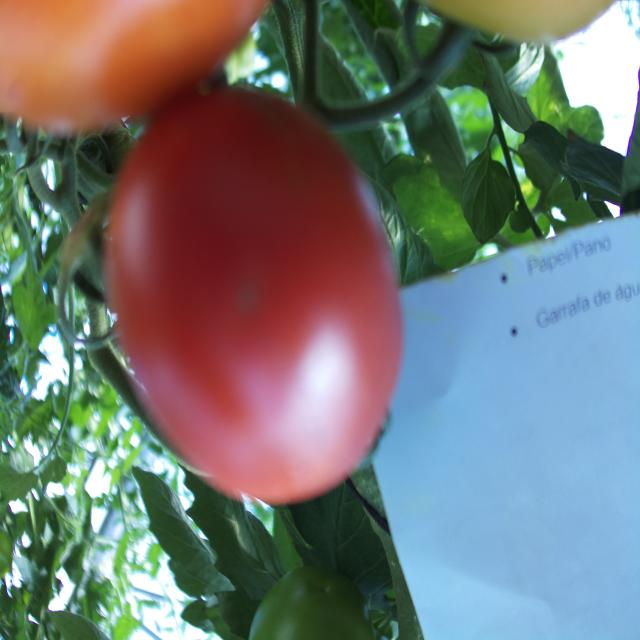kirmizi: (87, 63, 418, 526)
